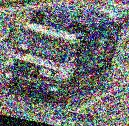truck: (0, 0, 124, 111)
